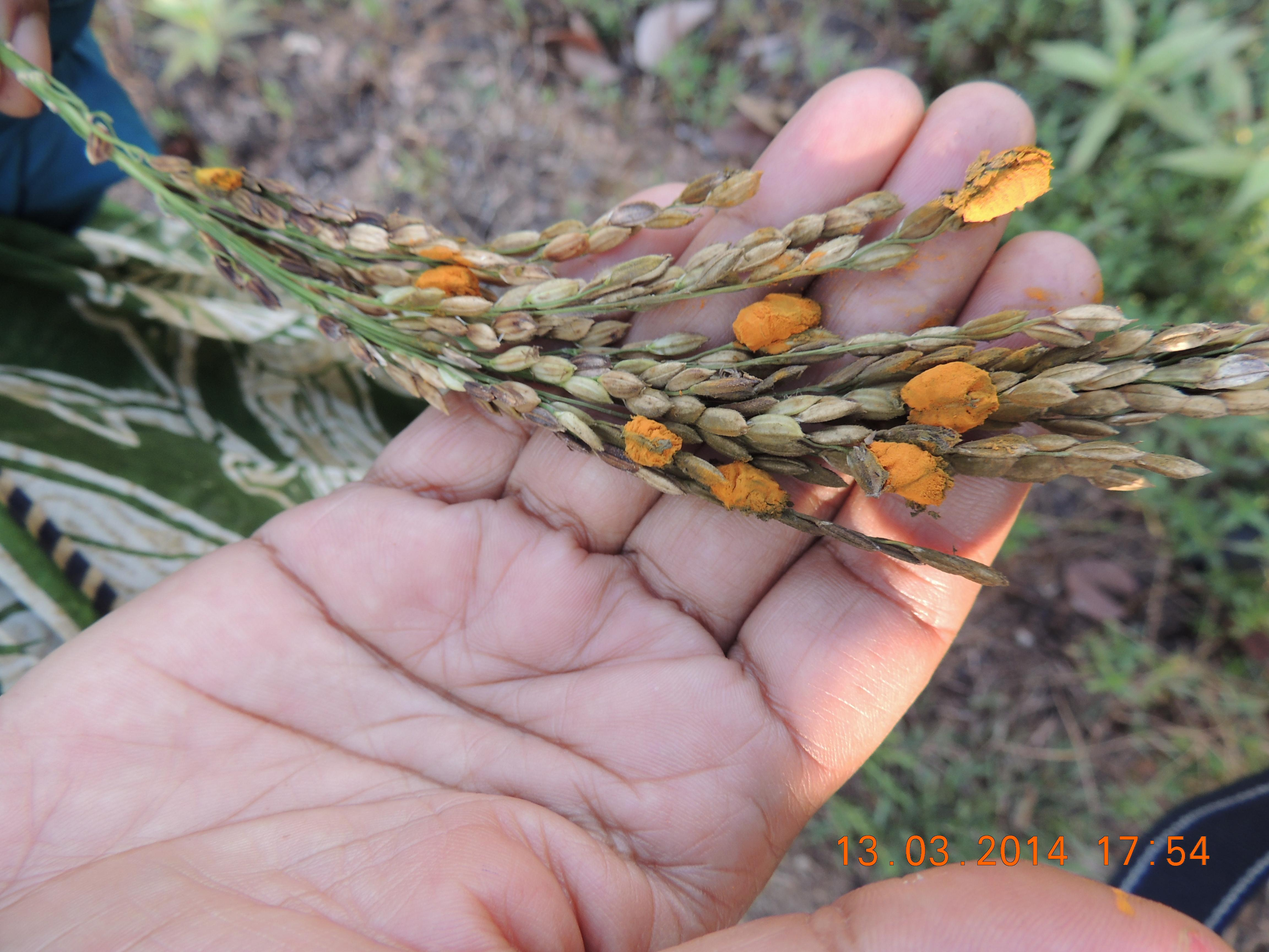False Smut: (939, 132, 1069, 223), (832, 432, 978, 507), (906, 369, 1024, 455), (719, 278, 829, 355), (399, 242, 493, 303), (708, 463, 793, 512), (620, 421, 708, 466), (182, 157, 297, 185)
